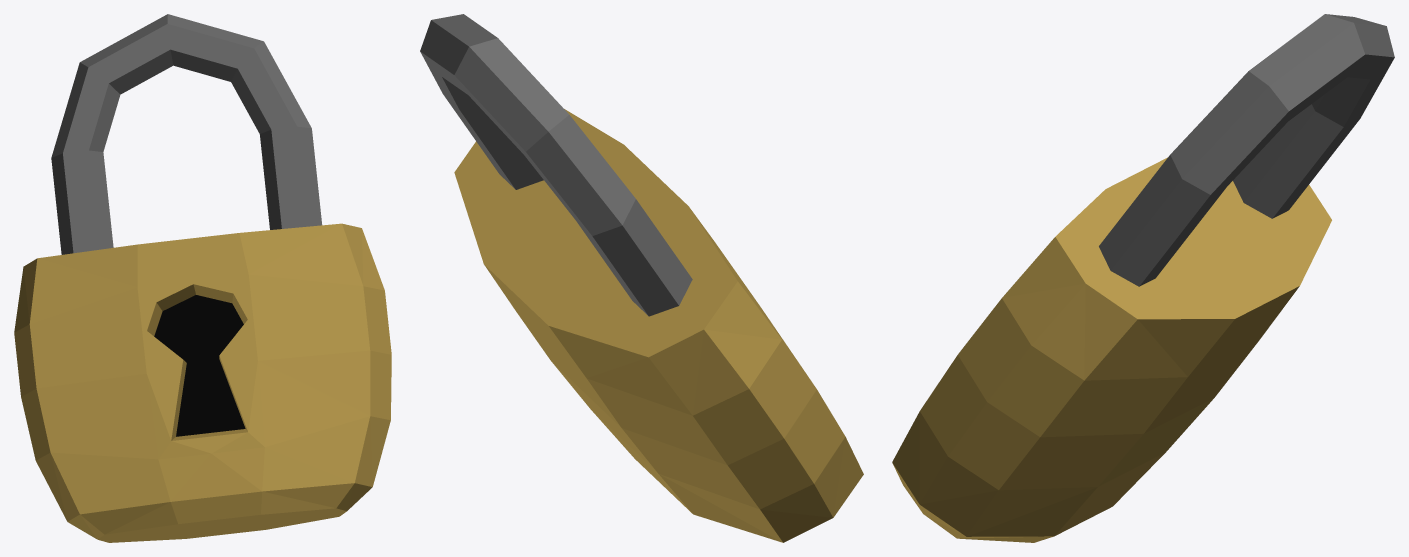
Rendered from tek_kilit.fbx.
The picture shows the model from 3 angles, left to right: view 1: azimuth 30°, elevation 25°; view 2: azimuth 150°, elevation 25°; view 3: azimuth 270°, elevation 25°; orthographic projection. The views are drawn at different scales.
Visible parts, largest first — view 1: Torus.002; view 2: Torus.002; view 3: Torus.002.
Boxes of the visible parts, x1,y1,x2,y2 form: Torus.002: (14, 14, 391, 542); Torus.002: (420, 14, 863, 542); Torus.002: (892, 14, 1394, 542).
Bounding box in the file's own units: 283 × 382 × 316.
